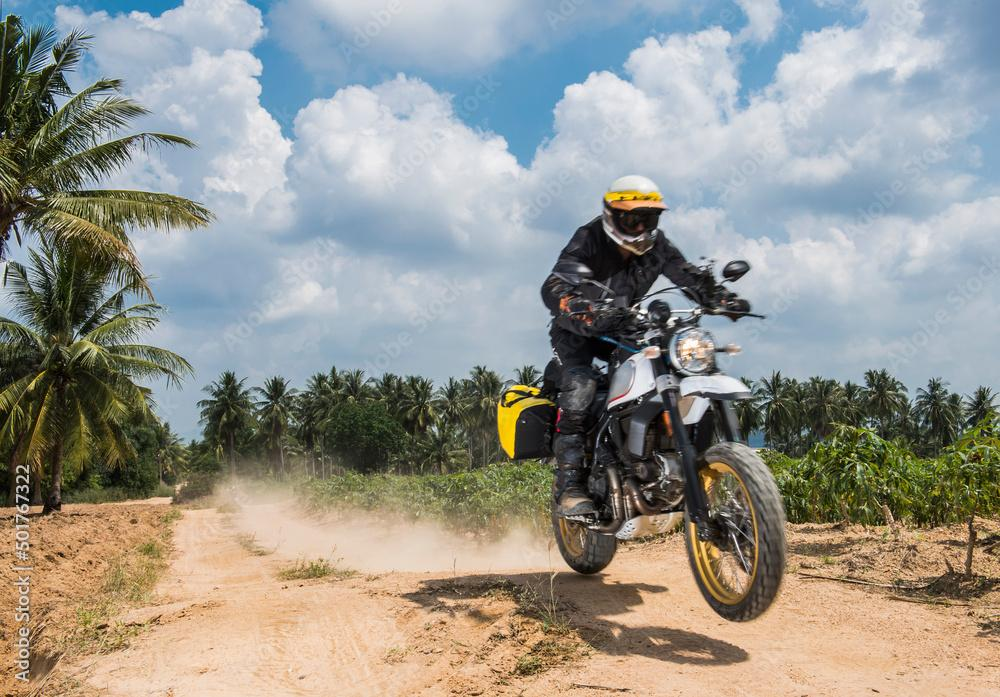helmet: (601, 173, 671, 258)
